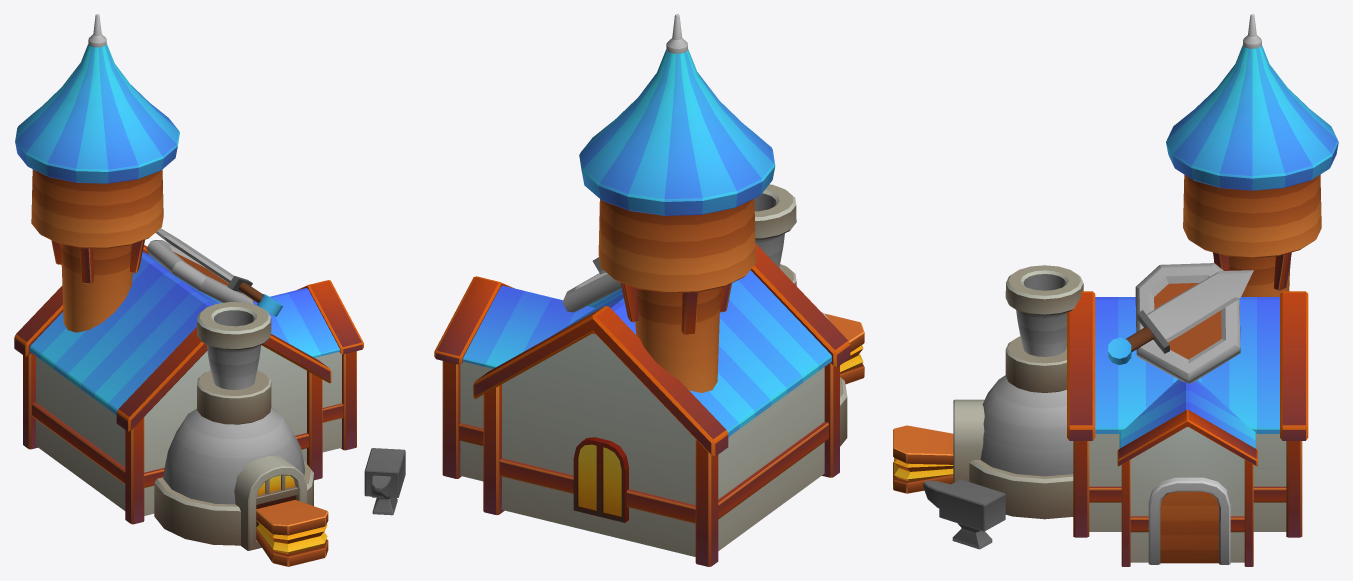
File: Barrack_Sword_3.fbx
The picture shows the model from 3 angles, left to right: view 1: azimuth 30°, elevation 25°; view 2: azimuth 150°, elevation 25°; view 3: azimuth 270°, elevation 25°; orthographic projection. The views are drawn at different scales.
Visible parts, largest first — view 1: Barrack_Sword_Lv3; view 2: Barrack_Sword_Lv3; view 3: Barrack_Sword_Lv3.
Part boxes in pixels (box(x1,y1,x2,y2)): Barrack_Sword_Lv3: box(14, 14, 405, 566); Barrack_Sword_Lv3: box(434, 14, 864, 566); Barrack_Sword_Lv3: box(893, 14, 1338, 566).
Bounding box in the file's own units: 1.09 × 1.66 × 1.48.
Materials: 1 (1 with a texture image).
